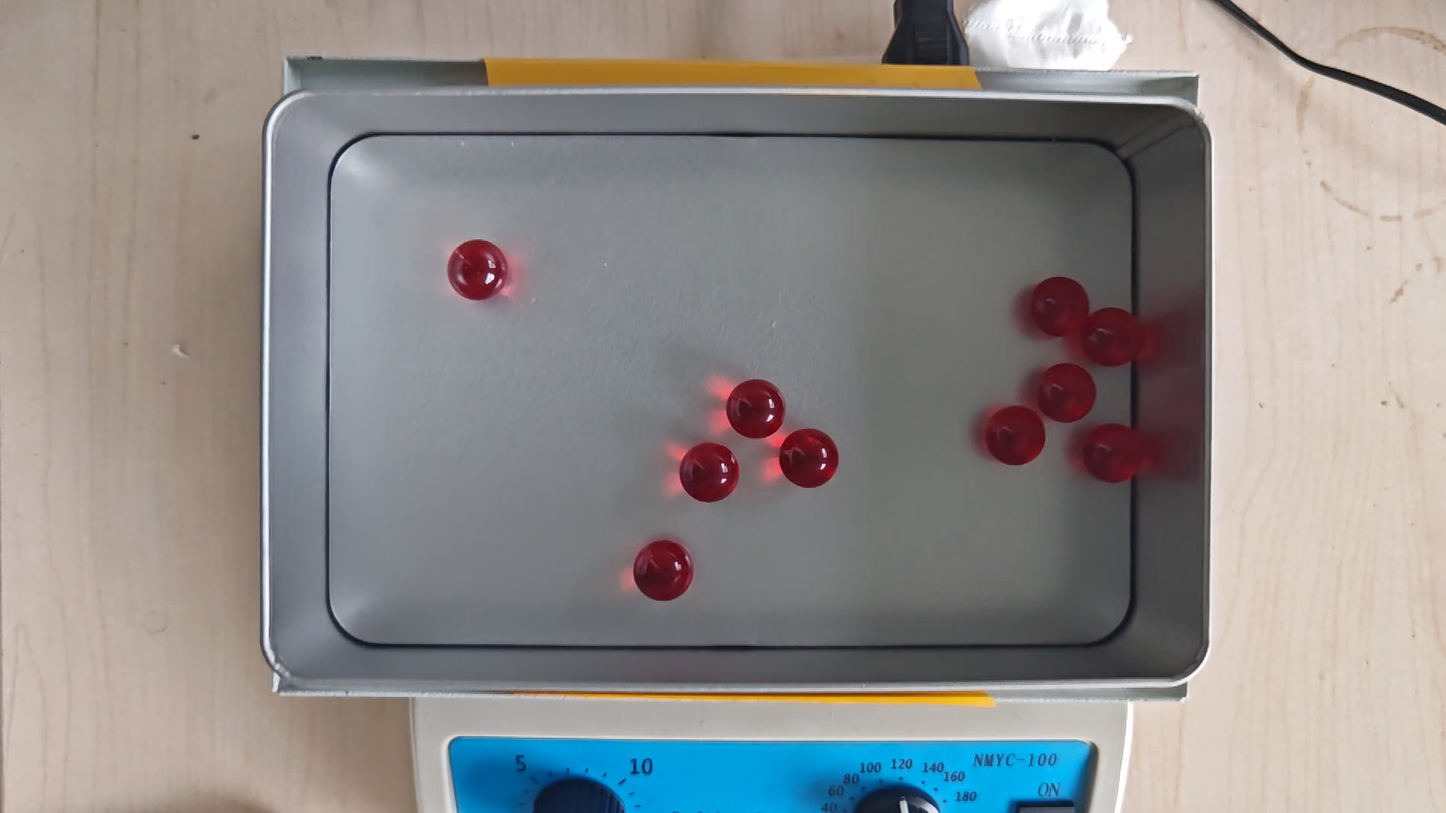ball: (633, 539, 694, 603), (448, 238, 509, 301), (986, 405, 1046, 467), (680, 442, 739, 504), (780, 428, 839, 489), (1084, 423, 1143, 484), (1030, 276, 1089, 337), (1037, 363, 1097, 422), (1083, 307, 1141, 368), (727, 379, 785, 439)
container: (327, 135, 1133, 647)
